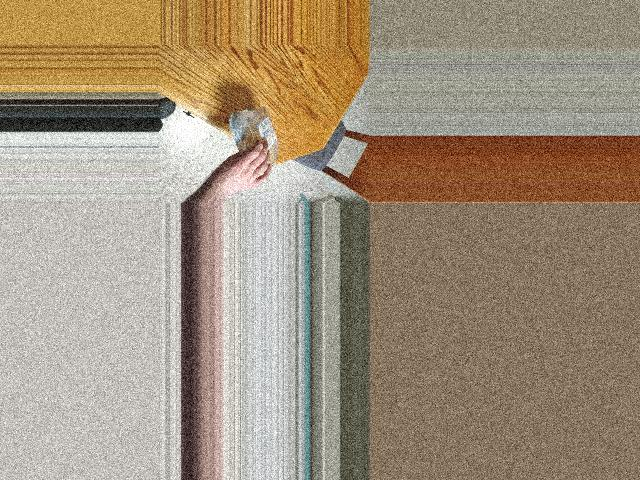cheese: (232, 111, 280, 167)
